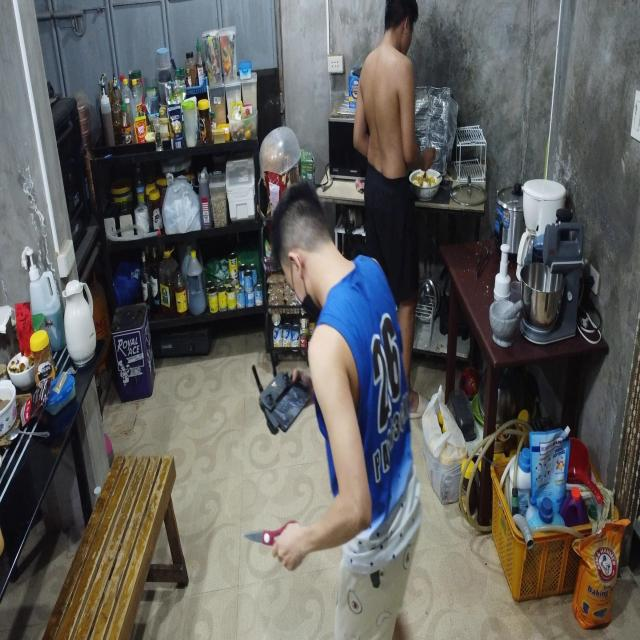scissor: (244, 520, 302, 550)
